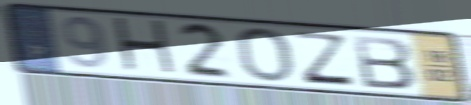2: (178, 21, 236, 82)
9: (59, 14, 112, 72)
B: (350, 33, 417, 91)
H: (109, 15, 181, 79)
O: (234, 26, 296, 84)
Z: (293, 29, 358, 88)
